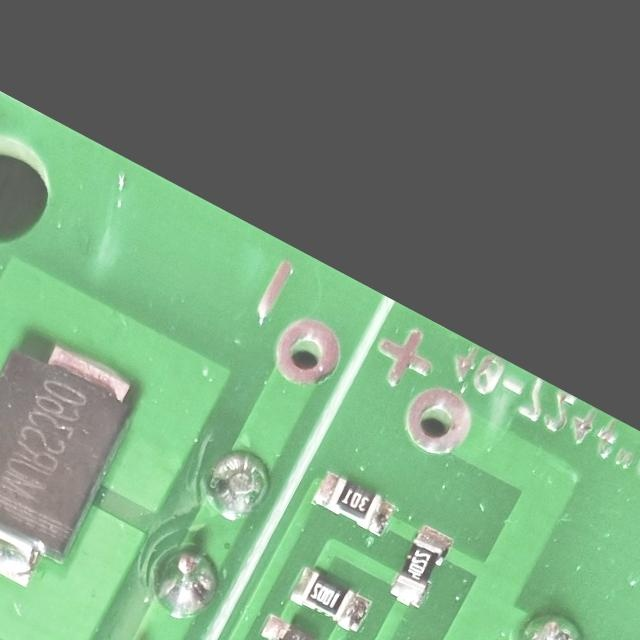chip-resistor: (281, 560, 379, 640), (306, 464, 402, 541), (383, 519, 460, 613)
diode: (0, 315, 161, 605)
